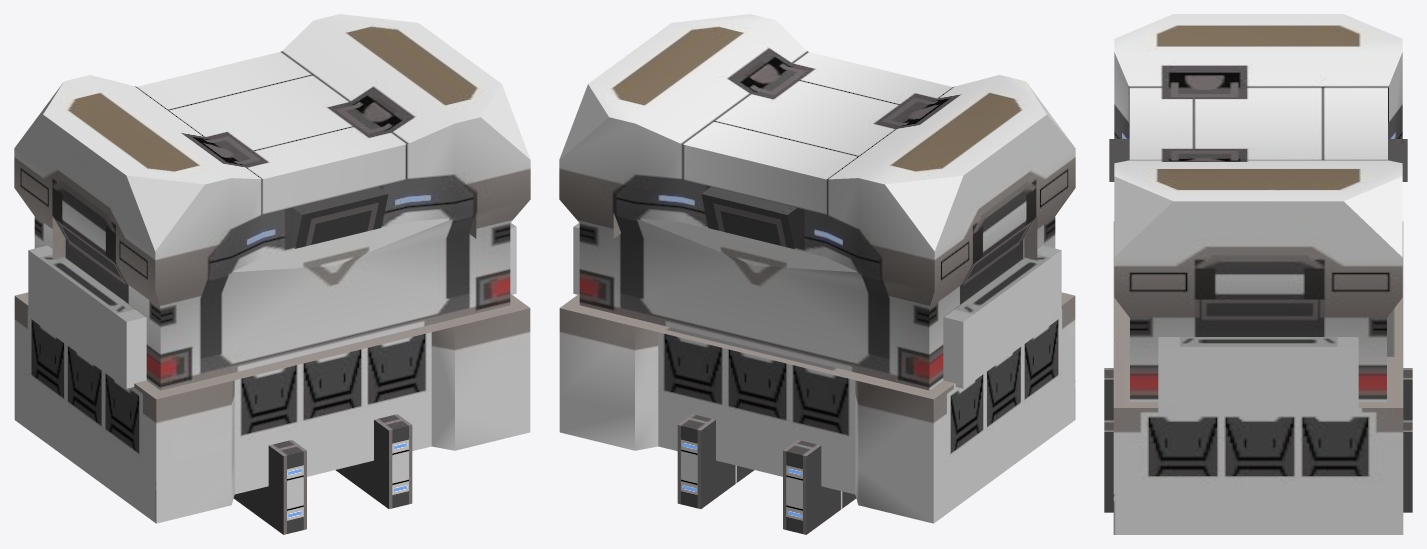
The picture shows the model from 3 angles, left to right: view 1: azimuth 30°, elevation 25°; view 2: azimuth 150°, elevation 25°; view 3: azimuth 270°, elevation 25°; orthographic projection. The views are drawn at different scales.
Visible parts, largest first — view 1: storage-2-lod1; view 2: storage-2-lod1; view 3: storage-2-lod1.
Part boxes in pixels (<box>): storage-2-lod1: <box>14,14,530,534</box>; storage-2-lod1: <box>559,14,1075,534</box>; storage-2-lod1: <box>1104,14,1412,534</box>.
Size of the model in its own units: 5.94 by 5.31 by 3.98.
1 material, 1 textured.
